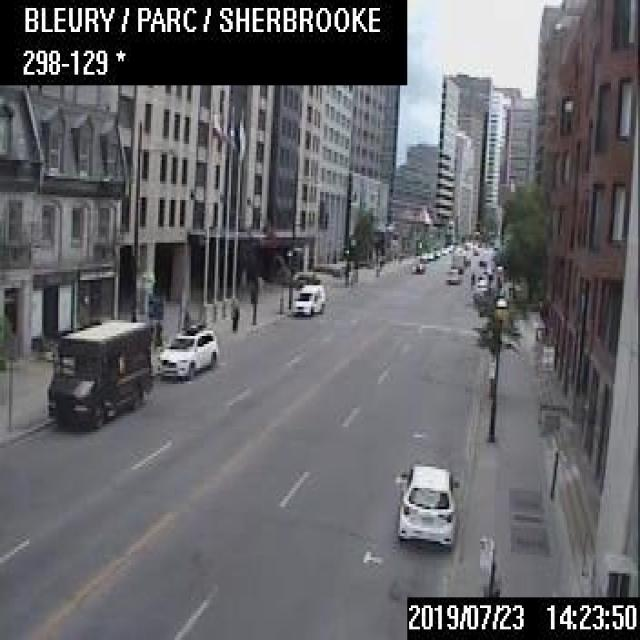pedestrian: (230, 299, 238, 333)
vehicle: (46, 319, 149, 432), (393, 461, 459, 545), (156, 325, 218, 379), (292, 282, 323, 315), (450, 247, 464, 272), (445, 268, 458, 282), (410, 259, 424, 272)
